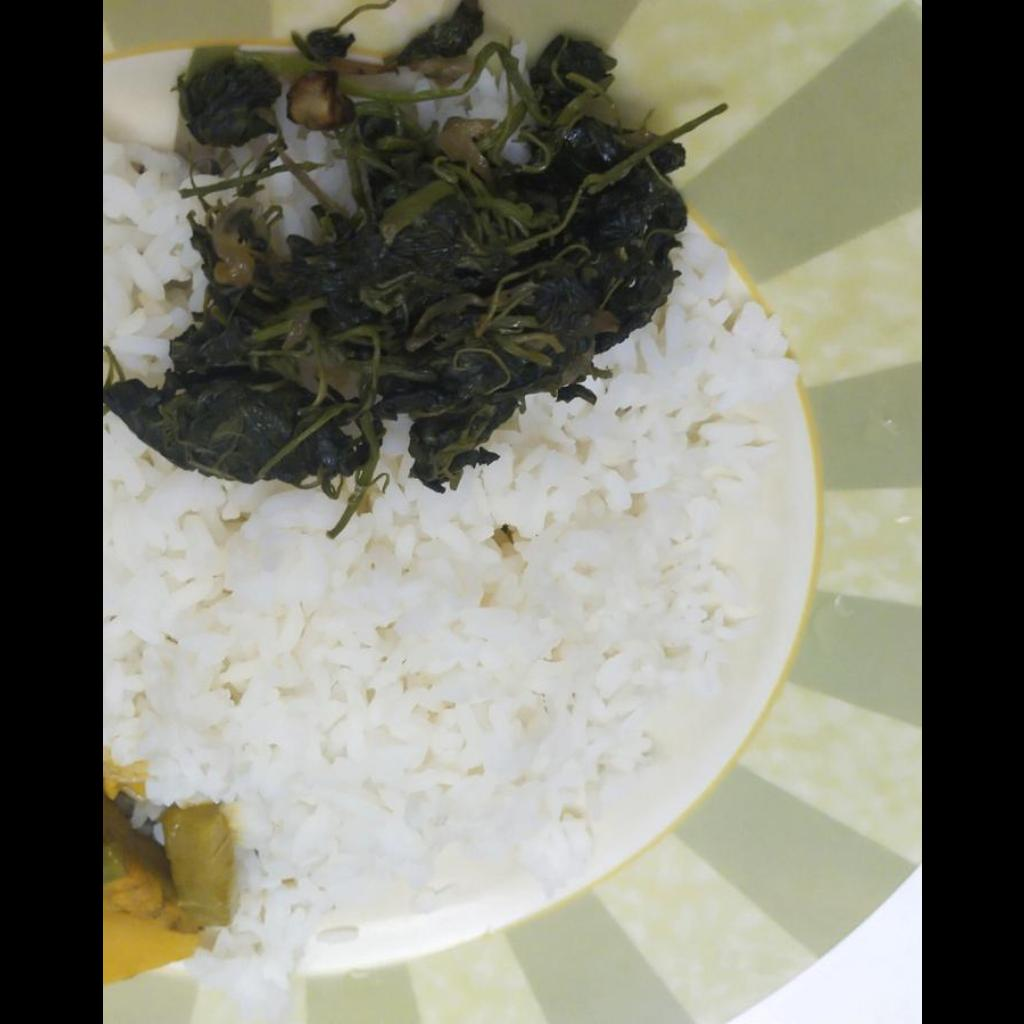rice: (106, 238, 799, 933)
shak: (104, 4, 737, 489)
vegetable: (102, 788, 231, 983)
